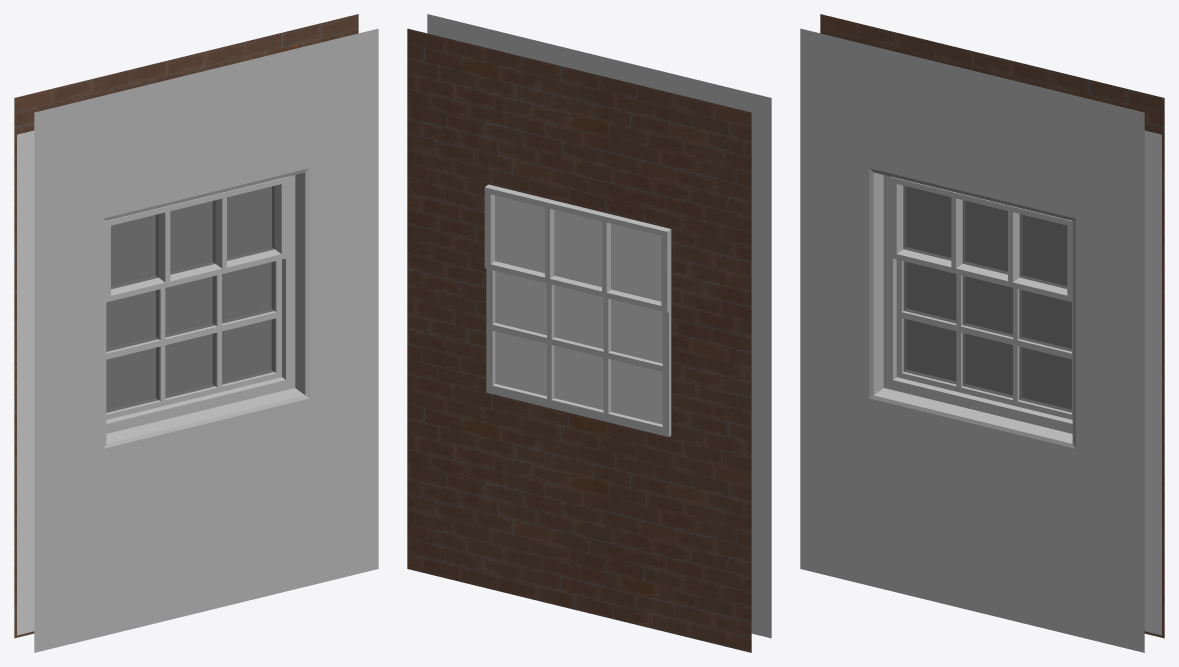
The model's file is Trim_Window.gltf.
3 views of the same model, side by side, from view 1: azimuth 30°, elevation 25°; view 2: azimuth 150°, elevation 25°; view 3: azimuth 330°, elevation 25° (orthographic).
Visible parts, largest first — view 1: Trim_Window; view 2: Trim_Window; view 3: Trim_Window.
Boxes of the visible parts, x1,y1,x2,y2 form: Trim_Window: [14, 14, 378, 652]; Trim_Window: [407, 14, 771, 652]; Trim_Window: [800, 14, 1164, 652].
Size of the model in its own units: 2 by 3 by 0.2397.
